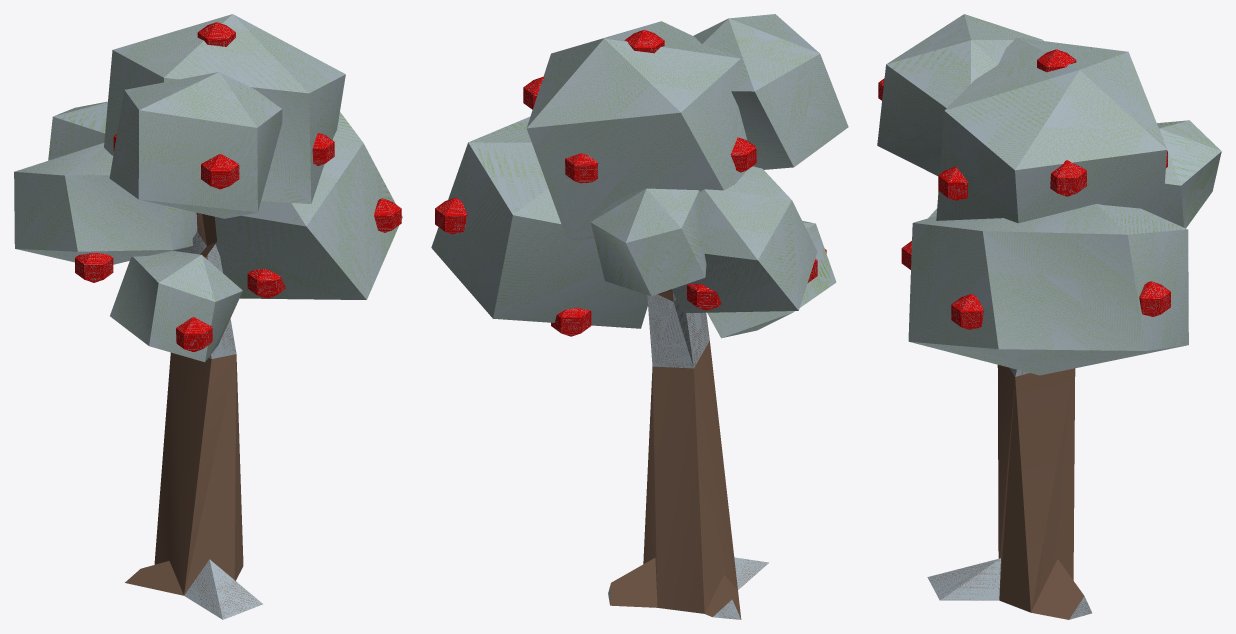
Rendered from Tree_Apple_03.fbx.
3 renders of one model, left to right at view 1: azimuth 30°, elevation 25°; view 2: azimuth 150°, elevation 25°; view 3: azimuth 270°, elevation 25°, orthographic. The views are drawn at different scales.
Visible parts, largest first — view 1: Model; view 2: Model; view 3: Model.
Part boxes in pixels (bbox=[...]): Model: bbox=[14, 14, 402, 619]; Model: bbox=[431, 14, 848, 619]; Model: bbox=[877, 14, 1221, 619].
Size of the model in its own units: 443 by 683 by 384.
